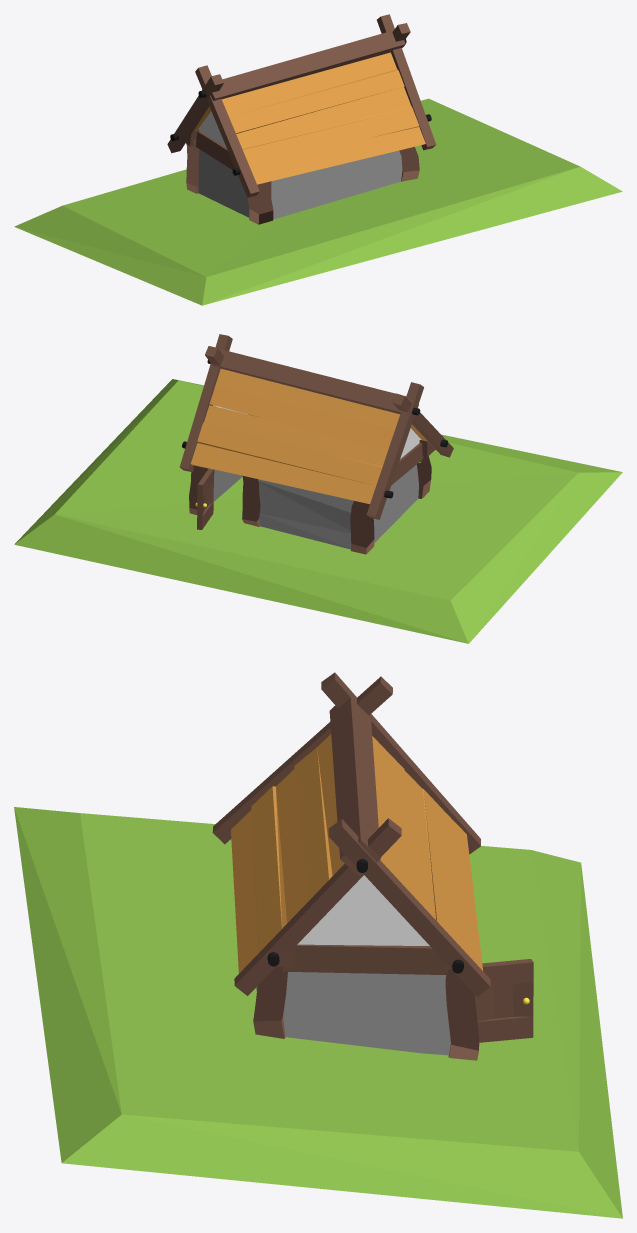
The model's file is scene_iNvu6NeTIw.glb.
The picture shows the model from 3 angles, top to bottom: view 1: azimuth 30°, elevation 25°; view 2: azimuth 150°, elevation 25°; view 3: azimuth 270°, elevation 25°; orthographic projection. The views are drawn at different scales.
Visible parts, largest first — view 1: Node; view 2: Node; view 3: Node.
Boxes of the visible parts, box(x1,y1,x2,y2) form: Node: box(14, 14, 622, 305); Node: box(14, 334, 622, 643); Node: box(14, 672, 622, 1218).
Bounding box in the file's own units: 2.45 × 0.9249 × 1.72.
